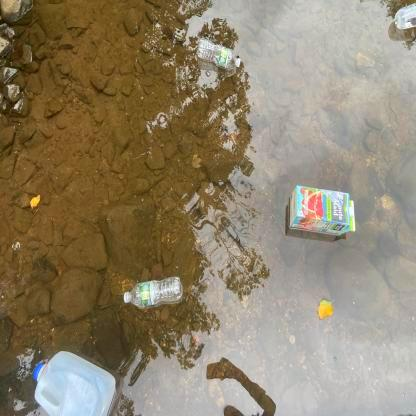Plastic: (23, 348, 122, 416), (115, 270, 186, 313), (189, 34, 245, 73), (388, 0, 416, 35)
